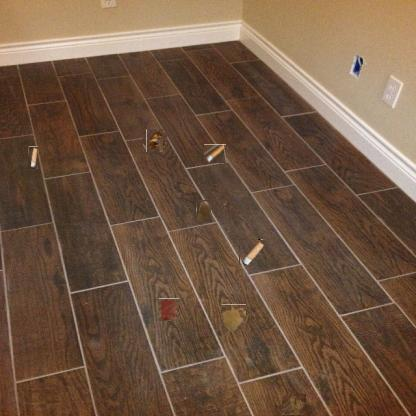dirty: (239, 239, 265, 265), (283, 393, 306, 415), (205, 144, 226, 164), (145, 130, 165, 151), (196, 200, 212, 222), (28, 146, 38, 169)
liquid: (222, 305, 247, 331), (159, 299, 180, 321)
